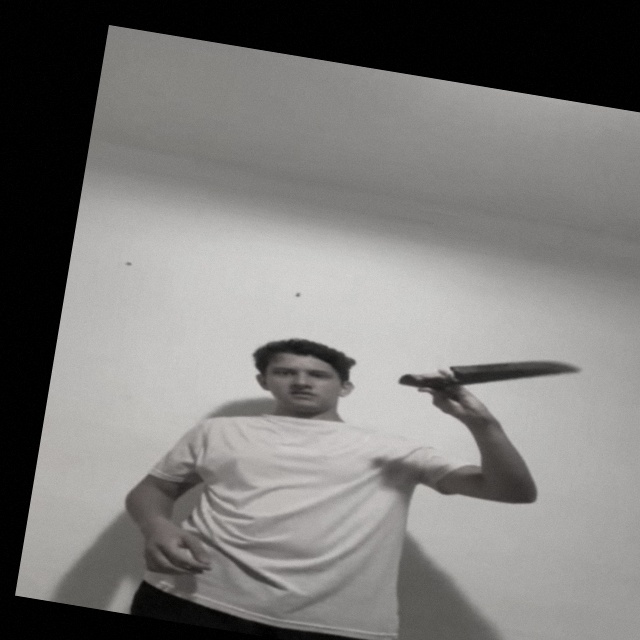Sharp-Object: (454, 345, 580, 396)
